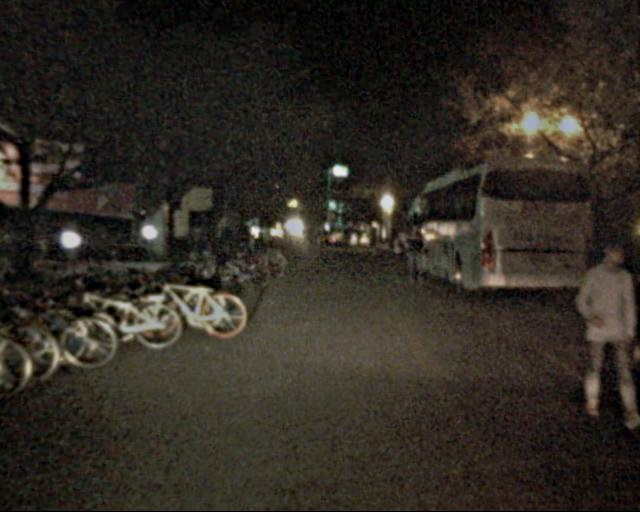person: (567, 241, 638, 415), (402, 223, 431, 293), (259, 223, 275, 262)
